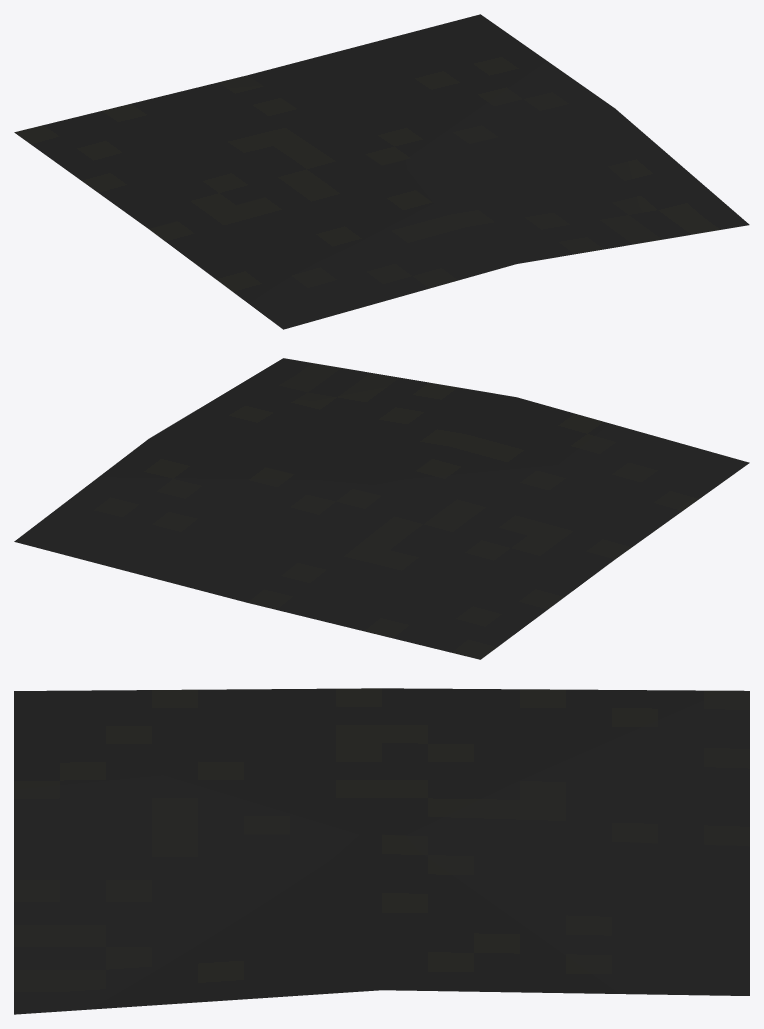
Rendered from OZ_99_sn_sdwbox05B.glb.
The picture shows the model from 3 angles, top to bottom: view 1: azimuth 30°, elevation 25°; view 2: azimuth 150°, elevation 25°; view 3: azimuth 270°, elevation 25°; orthographic projection. The views are drawn at different scales.
Visible parts, largest first — view 1: OM_99_sn_sdwbox05B; view 2: OM_99_sn_sdwbox05B; view 3: OM_99_sn_sdwbox05B.
Boxes of the visible parts, box(x1,y1,x2,y2) form: OM_99_sn_sdwbox05B: box(14, 14, 749, 329); OM_99_sn_sdwbox05B: box(14, 358, 749, 659); OM_99_sn_sdwbox05B: box(14, 688, 749, 1014).
Bounding box in the file's own units: 1.49 × 0.0544 × 1.49.
1 material, 1 textured.
